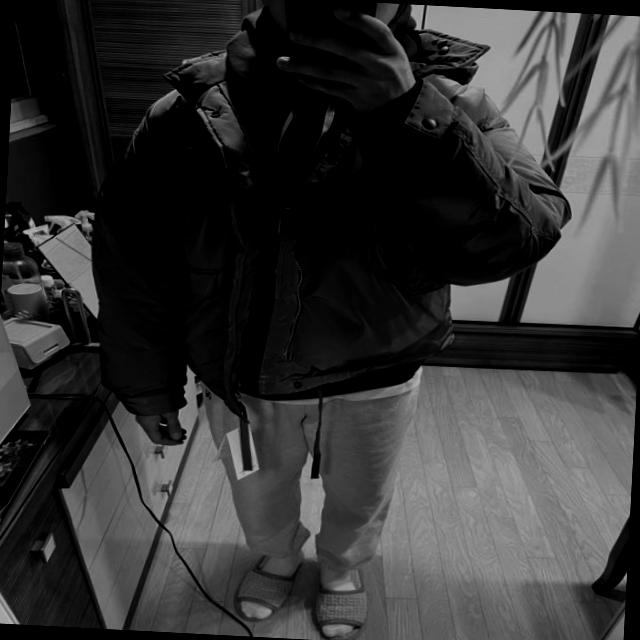padding: (82, 9, 582, 438)
trainingpants: (185, 357, 416, 569)
